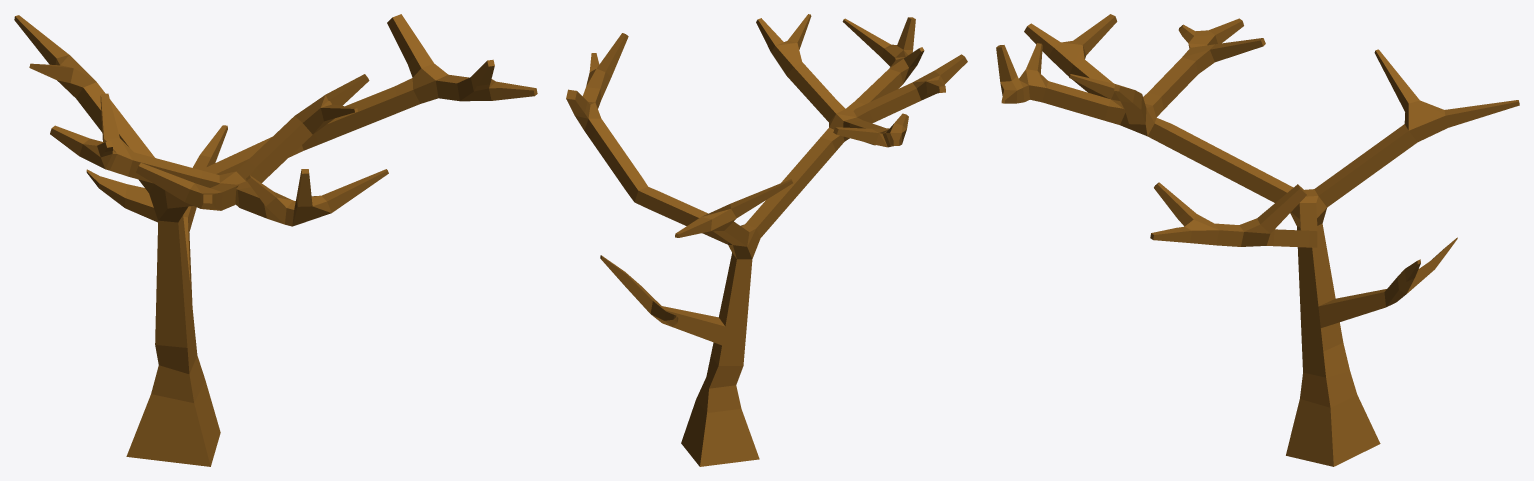
The model's file is tree01.glb.
3 renders of one model, left to right at view 1: azimuth 30°, elevation 25°; view 2: azimuth 150°, elevation 25°; view 3: azimuth 270°, elevation 25°, orthographic. The views are drawn at different scales.
Parts seen in each view (by area): view 1: Cube; view 2: Cube; view 3: Cube.
Part boxes in pixels (bbox=[...]): Cube: bbox=[14, 14, 537, 466]; Cube: bbox=[566, 14, 967, 466]; Cube: bbox=[996, 14, 1519, 466].
Bounding box in the file's own units: 13.45 × 13.1 × 15.72.
